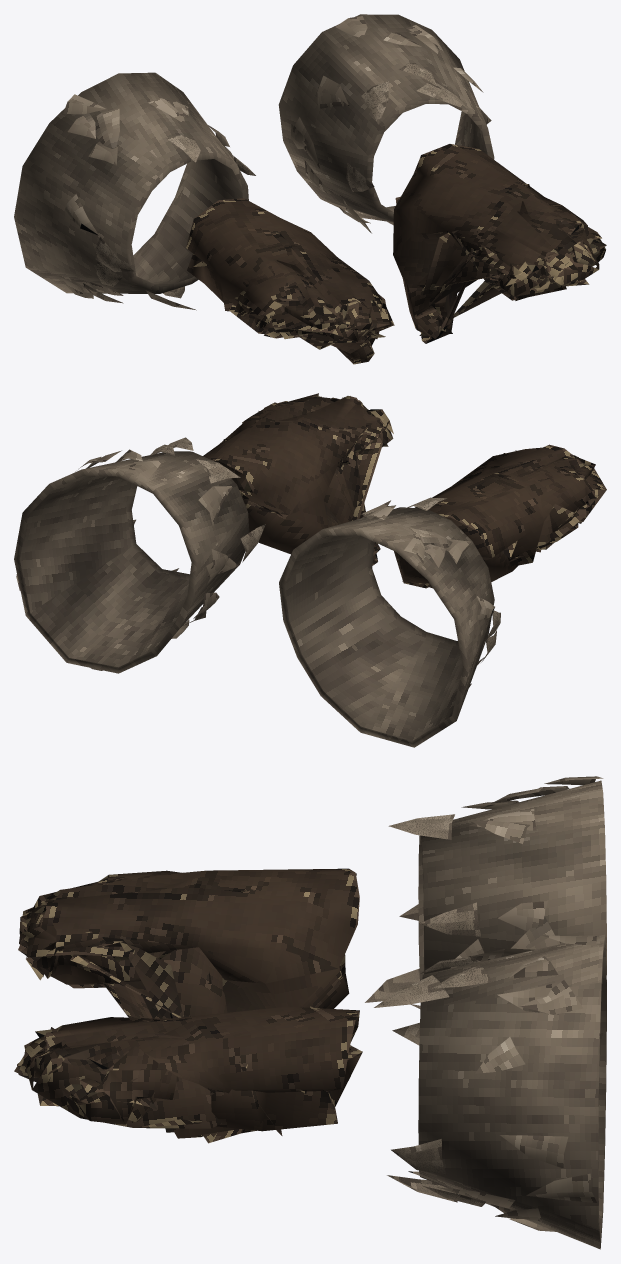
The model's file is gants_fourrure.glb.
3 renders of one model, top to bottom at view 1: azimuth 30°, elevation 25°; view 2: azimuth 150°, elevation 25°; view 3: azimuth 270°, elevation 25°, orthographic. The views are drawn at different scales.
Parts seen in each view (by area): view 1: gants_fourrure_sol; view 2: gants_fourrure_sol; view 3: gants_fourrure_sol.
Part boxes in pixels (bbox=[...]): gants_fourrure_sol: bbox=[14, 14, 606, 364]; gants_fourrure_sol: bbox=[14, 393, 606, 747]; gants_fourrure_sol: bbox=[14, 776, 606, 1249].
Bounding box in the file's own units: 0.4529 × 0.2004 × 0.3918.
2 materials, 2 textured.
